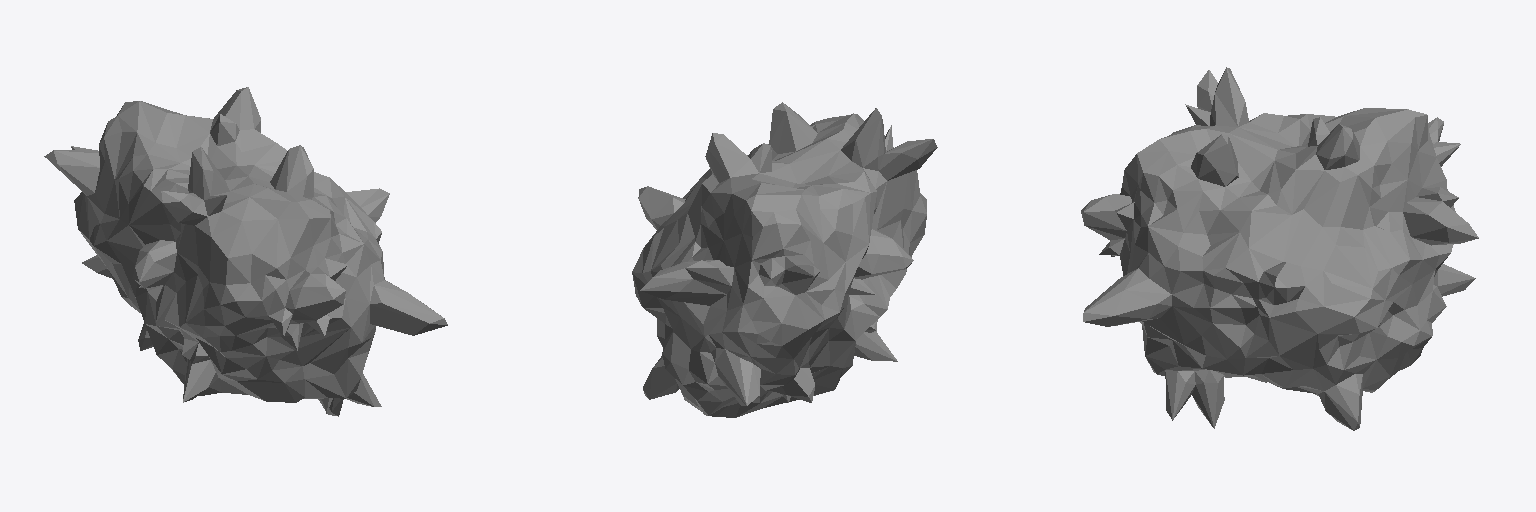
File: Asteroid_1.obj
The picture shows the model from 3 angles: view 1: azimuth 30°, elevation 25°; view 2: azimuth 150°, elevation 25°; view 3: azimuth 270°, elevation 25°; orthographic projection.
Parts seen in each view (by area): view 1: Asteroid_1; view 2: Asteroid_1; view 3: Asteroid_1.
Part boxes in pixels (bbox=[...]): Asteroid_1: bbox=[44, 87, 447, 416]; Asteroid_1: bbox=[632, 102, 937, 417]; Asteroid_1: bbox=[1081, 67, 1478, 430].
Bounding box in the file's own units: 82.8 × 89.68 × 109.